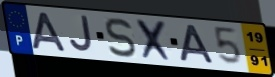5: (211, 26, 244, 68)
A: (30, 10, 69, 53), (179, 23, 217, 66)
J: (68, 14, 96, 55)
S: (104, 17, 138, 60)
X: (134, 17, 175, 64)
